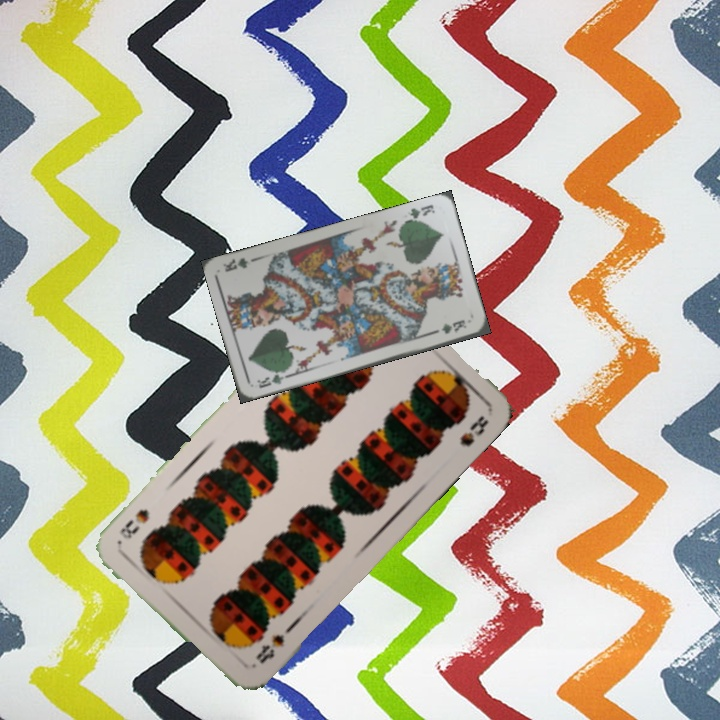GK: (253, 366, 291, 391), (401, 201, 437, 226)
S8: (251, 630, 287, 666)
